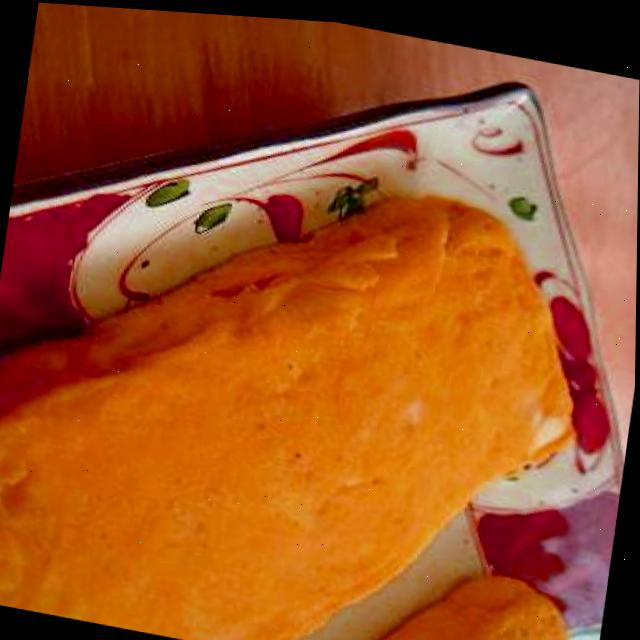鸡蛋料理: (0, 111, 639, 640)
